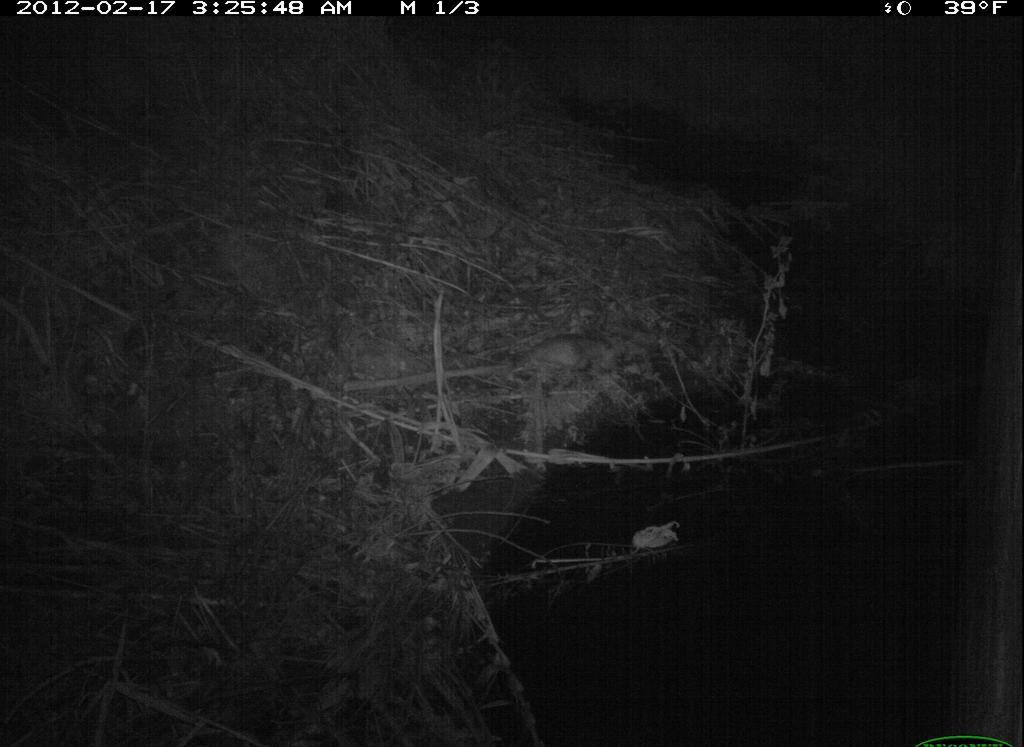opossum: (498, 326, 634, 401)
